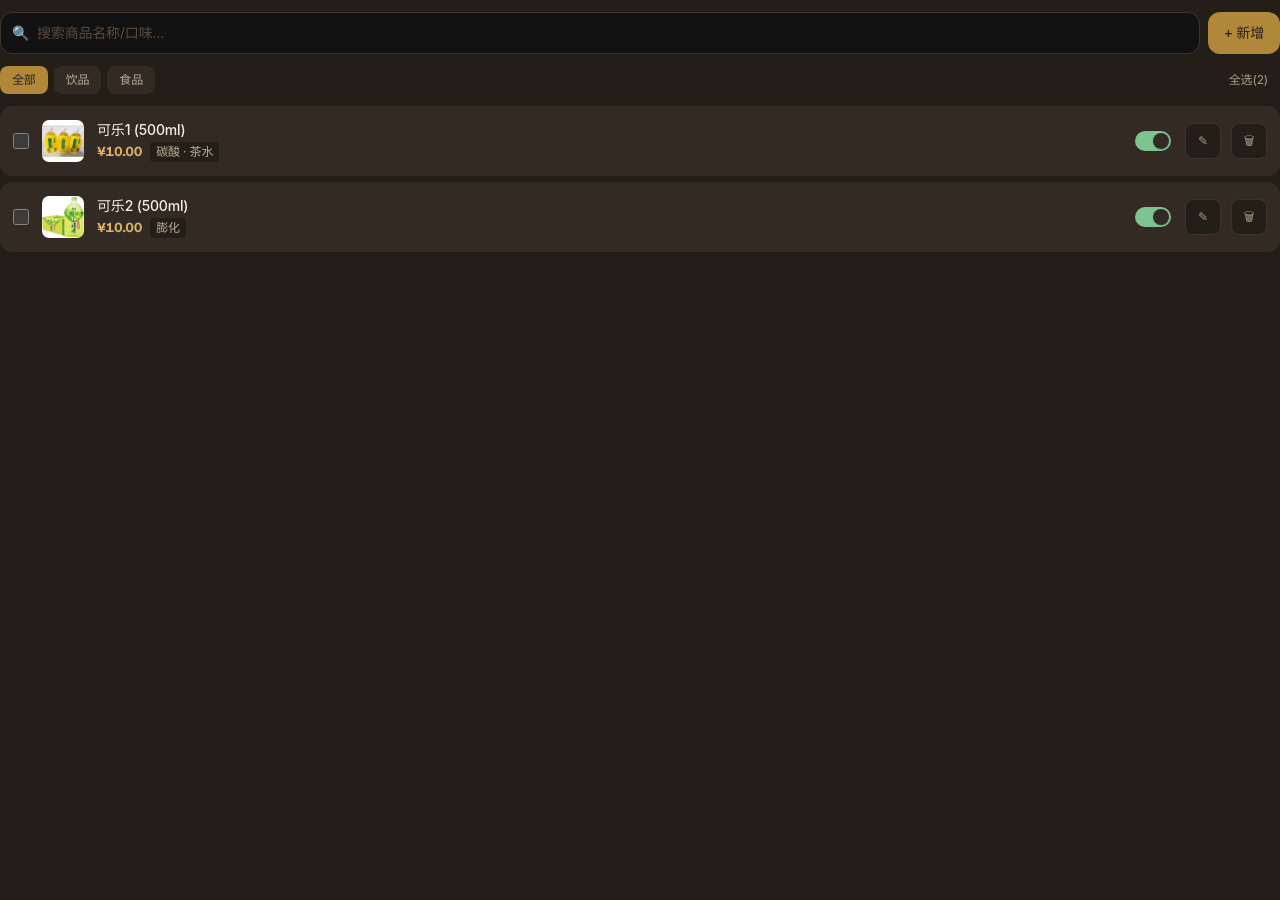
Scenario: 批量改价取整口径 › 批量改价第一下只进入待确认态，不发请求
The width and height of the screenshot is (1280, 900).
Click the checkbox named "选择 可乐1" at (21, 141), box x1=13 y1=133 x2=29 y2=149
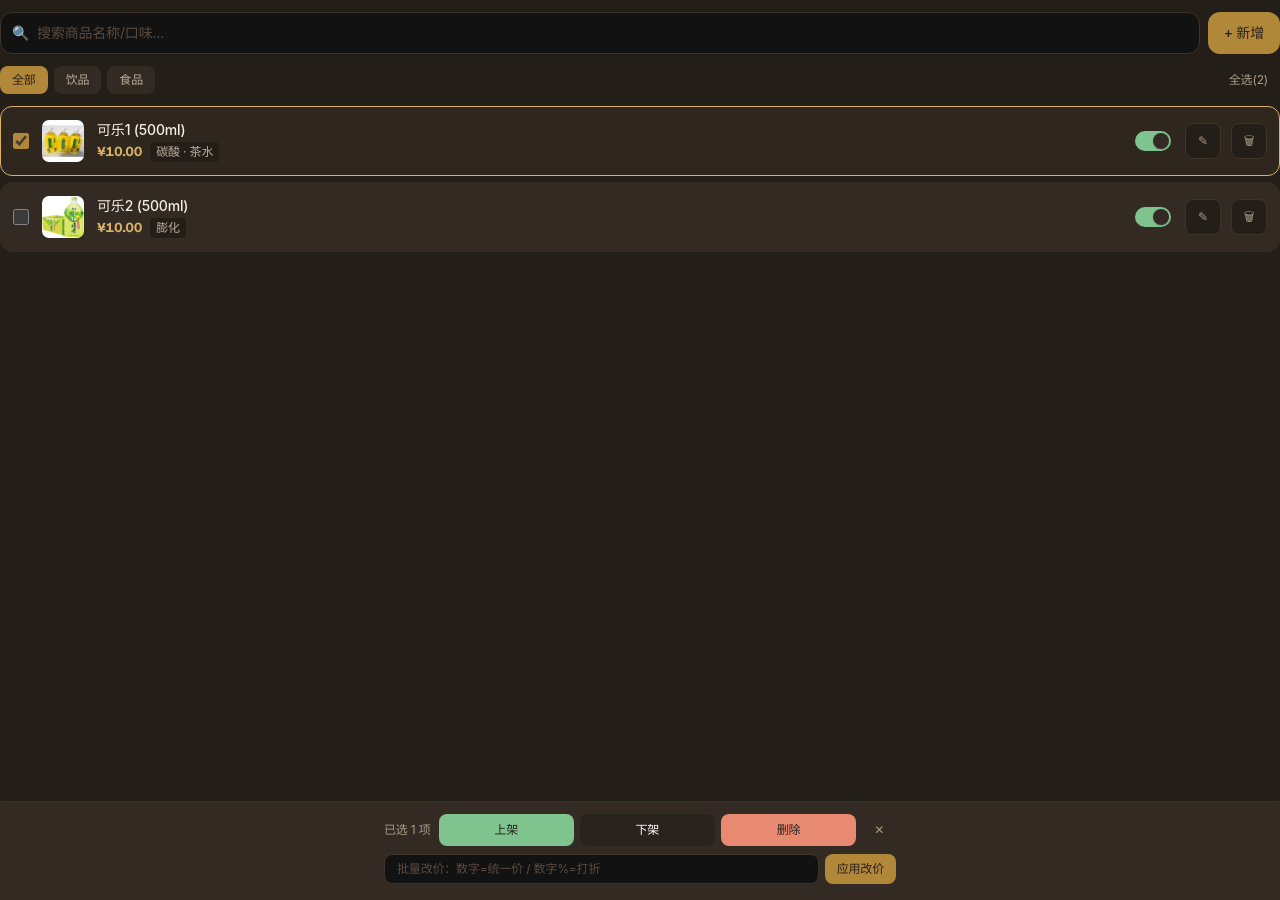
Type "5" into the field named "批量改价：数字表示统一价，数字加百分号表示打折" at (601, 869), box x1=384 y1=854 x2=819 y2=884
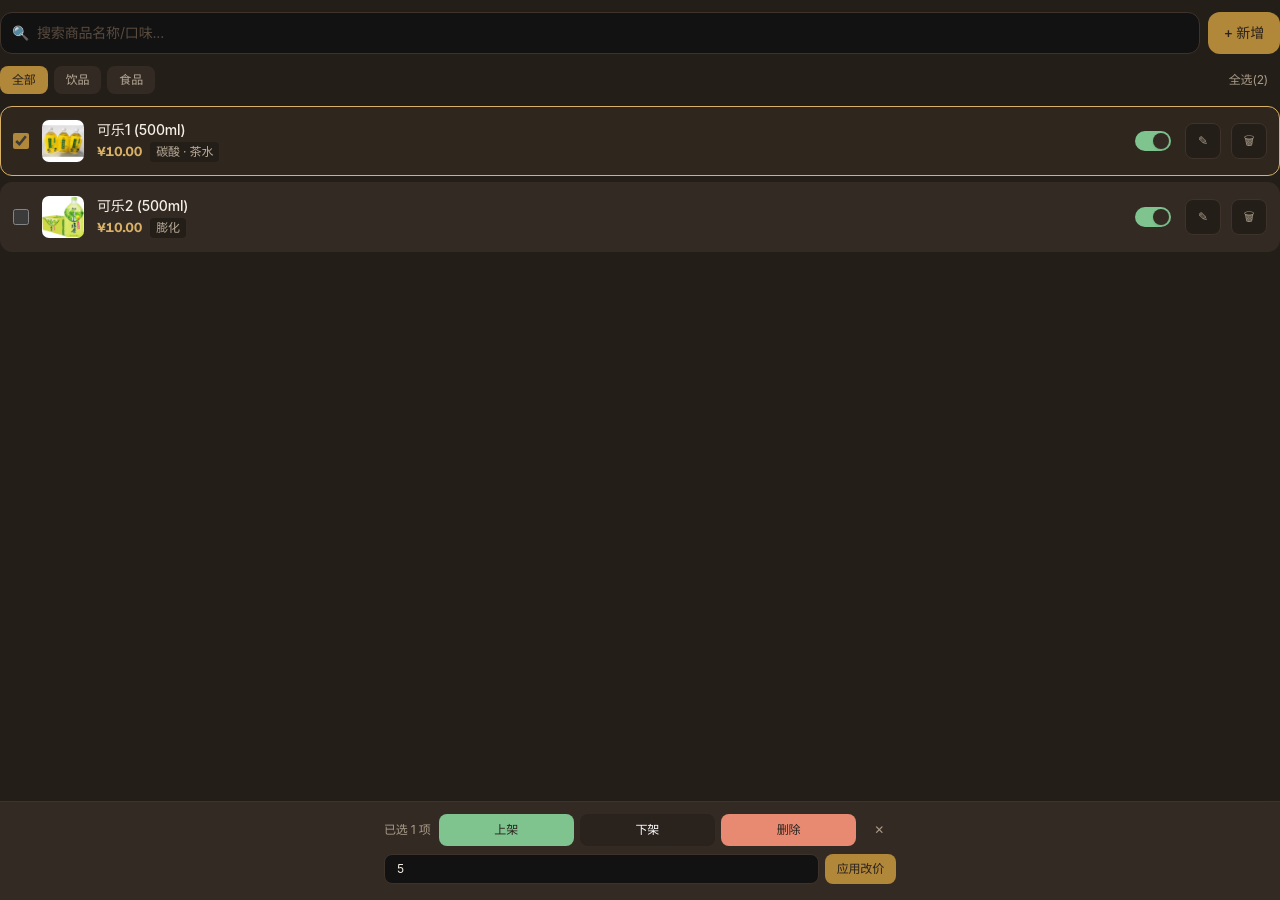
Click the button with aria-label "应用批量改价" at (860, 869), box x1=825 y1=854 x2=896 y2=884
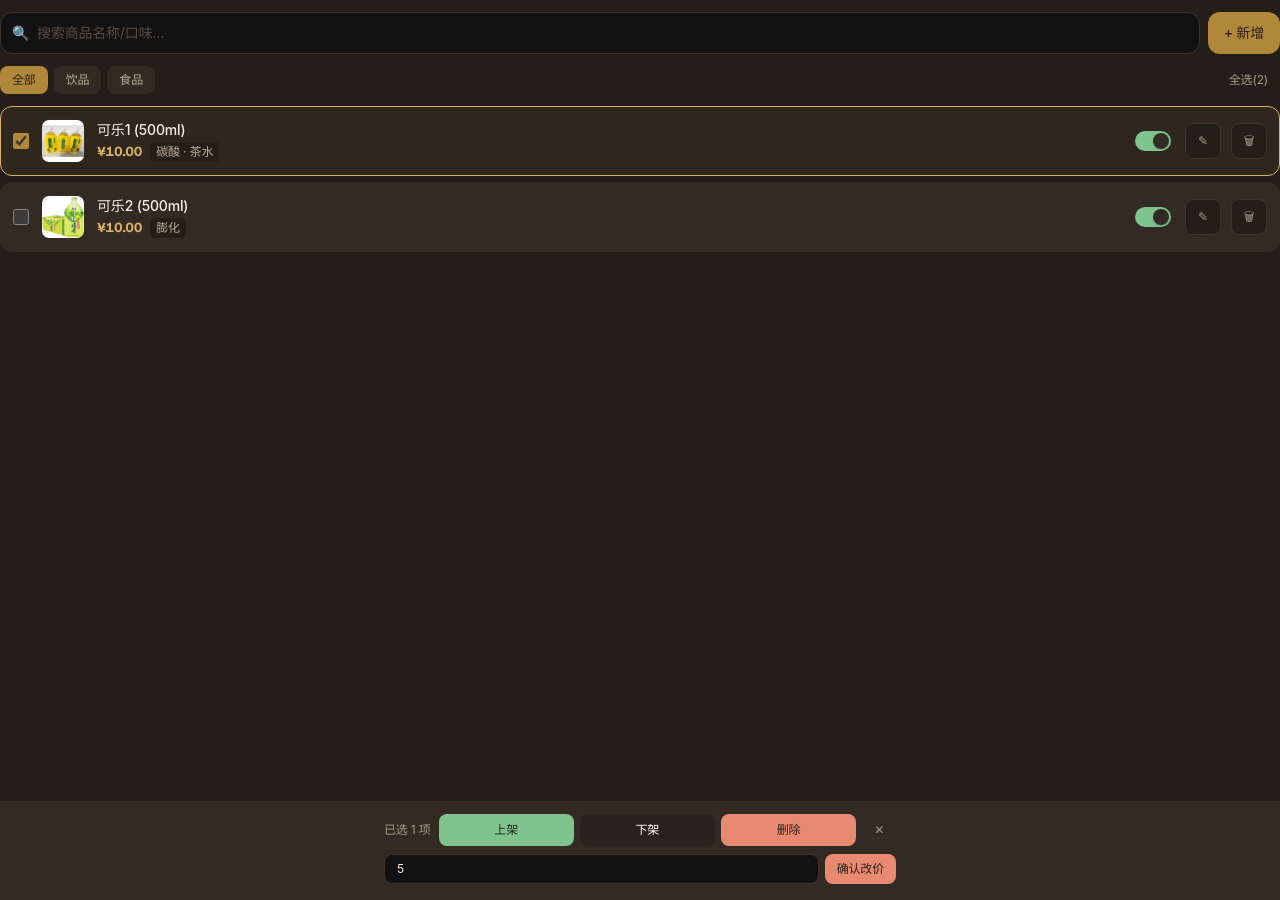
Result: the button with aria-label "确认把选中的 1 个商品改为" is shown at x1=825 y1=854 x2=896 y2=884
